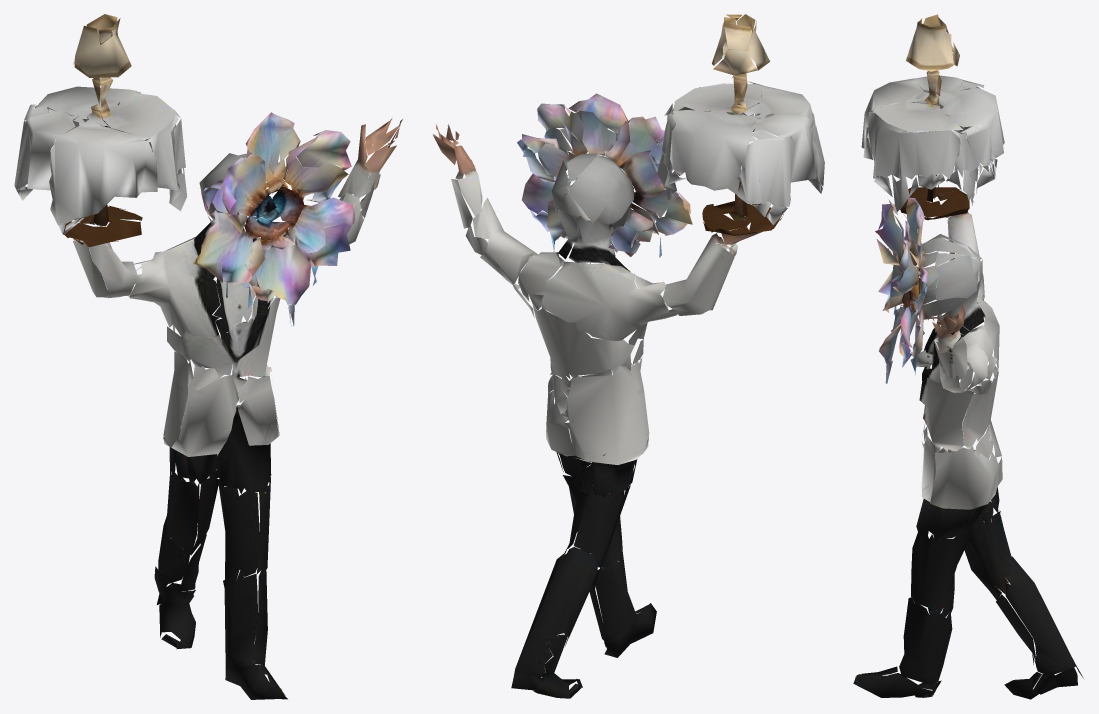
File: cast_maitre.glb
3 views of the same model, side by side, from view 1: azimuth 30°, elevation 25°; view 2: azimuth 150°, elevation 25°; view 3: azimuth 270°, elevation 25° (orthographic). The views are drawn at different scales.
Parts seen in each view (by area): view 1: tripo_node_05c4fbca-02c4-4de5-b7a4-4f7adf9fef5e; view 2: tripo_node_05c4fbca-02c4-4de5-b7a4-4f7adf9fef5e; view 3: tripo_node_05c4fbca-02c4-4de5-b7a4-4f7adf9fef5e.
Boxes of the visible parts, x1=… form: tripo_node_05c4fbca-02c4-4de5-b7a4-4f7adf9fef5e: x1=14, y1=14, x2=402, y2=699; tripo_node_05c4fbca-02c4-4de5-b7a4-4f7adf9fef5e: x1=433, y1=14, x2=824, y2=698; tripo_node_05c4fbca-02c4-4de5-b7a4-4f7adf9fef5e: x1=853, y1=14, x2=1083, y2=699.
Bounding box in the file's own units: 0.5815 × 0.9998 × 0.3401.
1 material, 1 textured.
